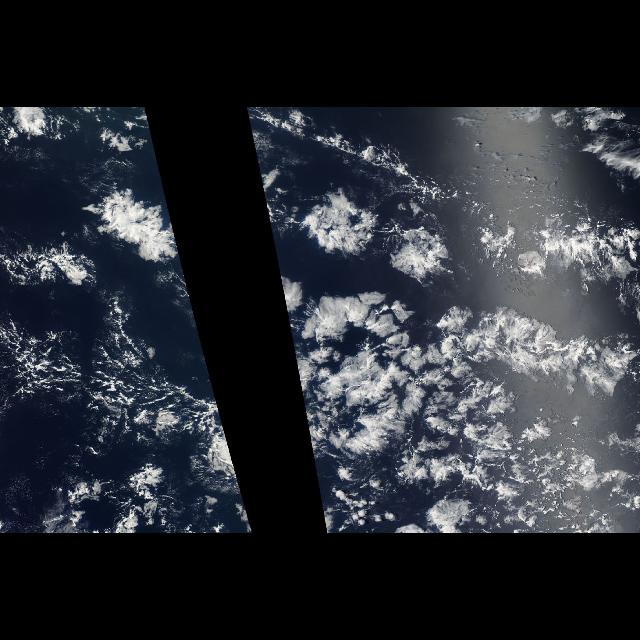Fish: (430, 288, 640, 410)
Flower: (278, 160, 634, 530), (89, 172, 188, 288)
